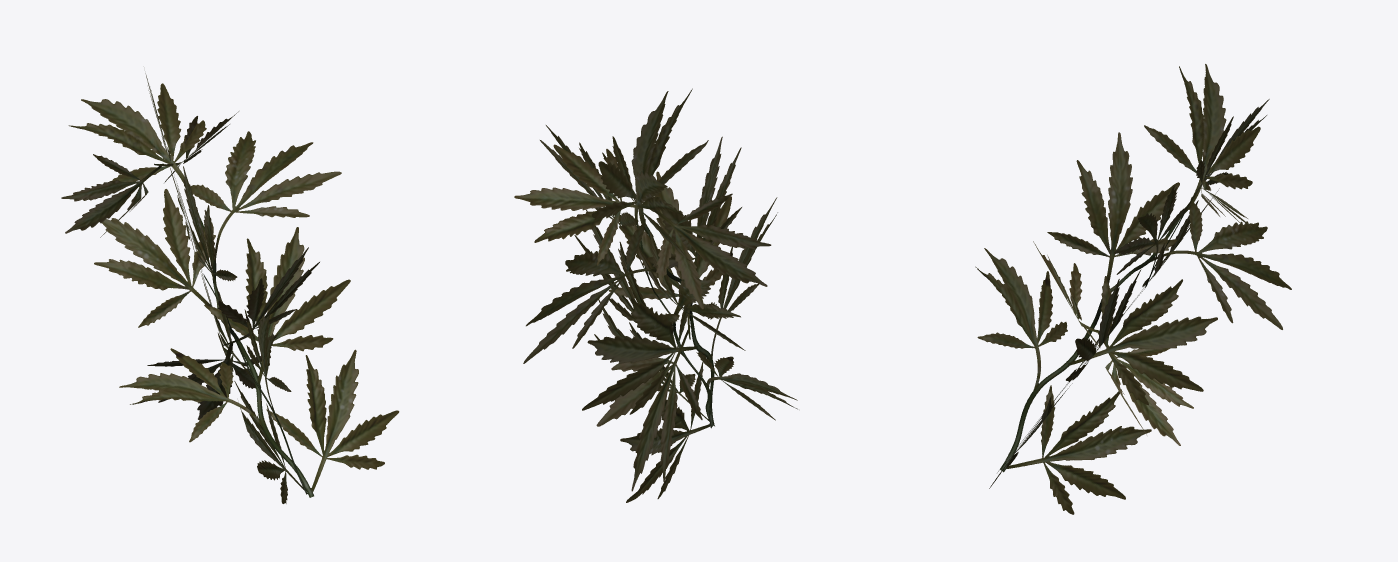
File: TI_Bush_01_Branch_03.fbx
The picture shows the model from 3 angles, left to right: view 1: azimuth 30°, elevation 25°; view 2: azimuth 150°, elevation 25°; view 3: azimuth 270°, elevation 25°; orthographic projection. The views are drawn at different scales.
Parts seen in each view (by area): view 1: TI_Bush_01_Branch_03; view 2: TI_Bush_01_Branch_03; view 3: TI_Bush_01_Branch_03.
Boxes of the visible parts, box(x1,y1,x2,y2) form: TI_Bush_01_Branch_03: box(61, 73, 399, 503); TI_Bush_01_Branch_03: box(514, 88, 797, 502); TI_Bush_01_Branch_03: box(975, 64, 1291, 514).
Bounding box in the file's own units: 0.6846 × 1.14 × 1.09.
